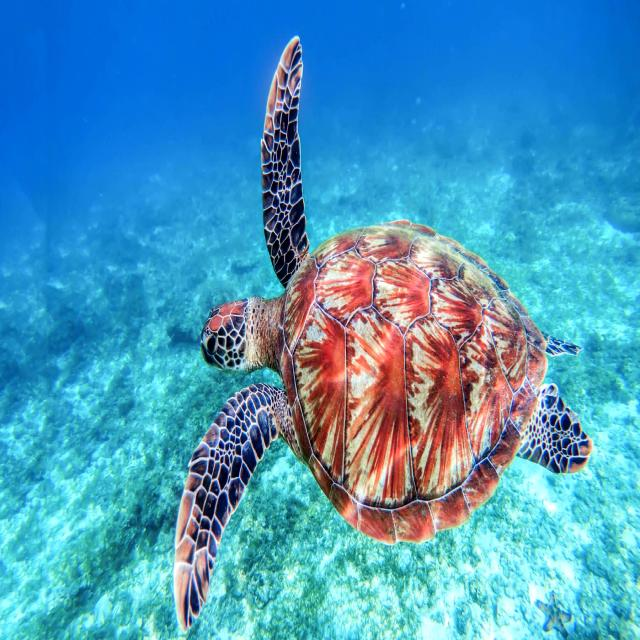Sea turtle: (167, 27, 594, 640)
